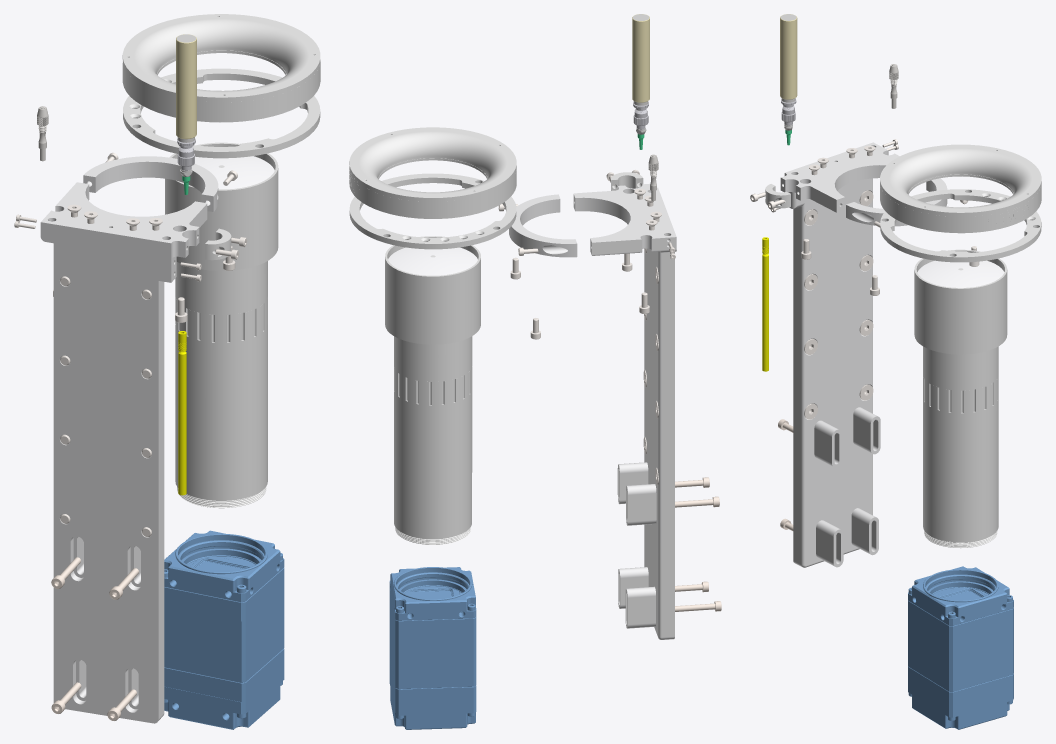
File: VS3_Assembly_exploaded_Copy.glb
The picture shows the model from 3 angles, left to right: view 1: azimuth 30°, elevation 25°; view 2: azimuth 150°, elevation 25°; view 3: azimuth 270°, elevation 25°; orthographic projection. The views are drawn at different scales.
Visible parts, largest first — view 1: Part1^VS3 Assembly - Copy-1, Telecentric Lens-1, Atlas10-TFL2-Mount-1, step_18562.step-1, Copy of Illumingation addapter disk^chip xy camera and lens-, Lense Bracket^VS3 Assembly - Copy-1, 7111199.001_IFS2404-2(001).stp-1/10.10213_Gehäuse.stp-1, 2864A213_One Piece Extension-1, Confocal Bracket^VS3 Assembly - Copy-1; view 2: Telecentric Lens-1, Part1^VS3 Assembly - Copy-1, Atlas10-TFL2-Mount-1, step_18562.step-1, Copy of Illumingation addapter disk^chip xy camera and lens-, Lense Bracket^VS3 Assembly - Copy-1, 7111199.001_IFS2404-2(001).stp-1/10.10213_Gehäuse.stp-1; view 3: Part1^VS3 Assembly - Copy-1, Telecentric Lens-1, Atlas10-TFL2-Mount-1, step_18562.step-1, Copy of Illumingation addapter disk^chip xy camera and lens-, 7111199.001_IFS2404-2(001).stp-1/10.10213_Gehäuse.stp-1, Lense Bracket^VS3 Assembly - Copy-1, 2864A213_One Piece Extension-1.
Part boxes in pixels (x1,y1,x2,y2): Part1^VS3 Assembly - Copy-1: (40,182,207,723); Telecentric Lens-1: (165,142,278,508); Atlas10-TFL2-Mount-1: (164,530,284,729); step_18562.step-1: (122,14,320,122); Copy of Illumingation addapter disk^chip xy camera and lens-: (123,68,320,158); Lense Bracket^VS3 Assembly - Copy-1: (83,156,218,211); 7111199.001_IFS2404-2(001).stp-1/10.10213_Gehäuse.stp-1: (176,34,196,139); 2864A213_One Piece Extension-1: (178,331,186,495); Confocal Bracket^VS3 Assembly - Copy-1: (205,228,231,260); Telecentric Lens-1: (385,236,480,544); Part1^VS3 Assembly - Copy-1: (573,183,676,639); Atlas10-TFL2-Mount-1: (389,567,476,729); step_18562.step-1: (349,127,516,218); Copy of Illumingation addapter disk^chip xy camera and lens-: (349,173,516,249); Lense Bracket^VS3 Assembly - Copy-1: (509,194,577,257); 7111199.001_IFS2404-2(001).stp-1/10.10213_Gehäuse.stp-1: (632,14,649,102); Part1^VS3 Assembly - Copy-1: (780,142,924,567); Telecentric Lens-1: (914,249,1007,548); Atlas10-TFL2-Mount-1: (908,566,1013,729); step_18562.step-1: (880,144,1041,233); Copy of Illumingation addapter disk^chip xy camera and lens-: (880,189,1041,262); 7111199.001_IFS2404-2(001).stp-1/10.10213_Gehäuse.stp-1: (780,14,797,99); Lense Bracket^VS3 Assembly - Copy-1: (846,178,947,226); 2864A213_One Piece Extension-1: (762,237,768,371).
Bounding box in the file's own units: 0.2254 × 0.4943 × 0.2042.
